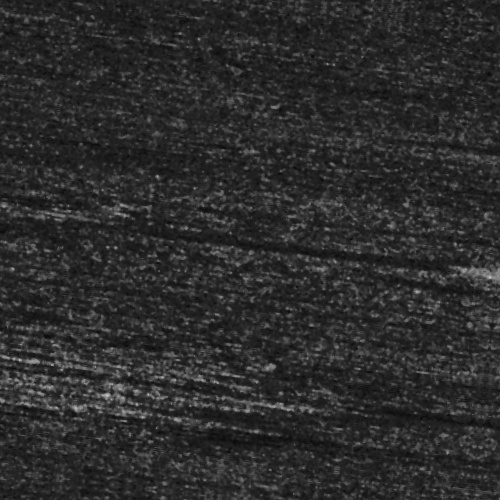object: (429, 233, 500, 250)
shadow: (173, 233, 500, 250), (415, 116, 500, 123), (457, 164, 500, 167)
